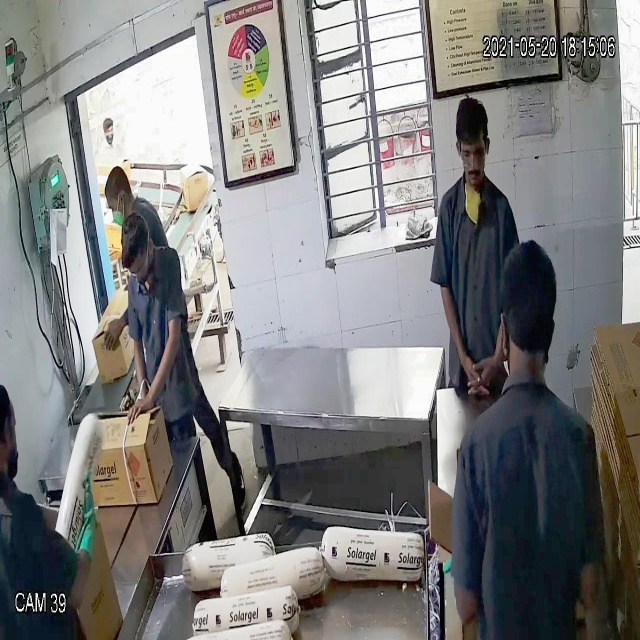Gafas: (456, 140, 488, 165)
